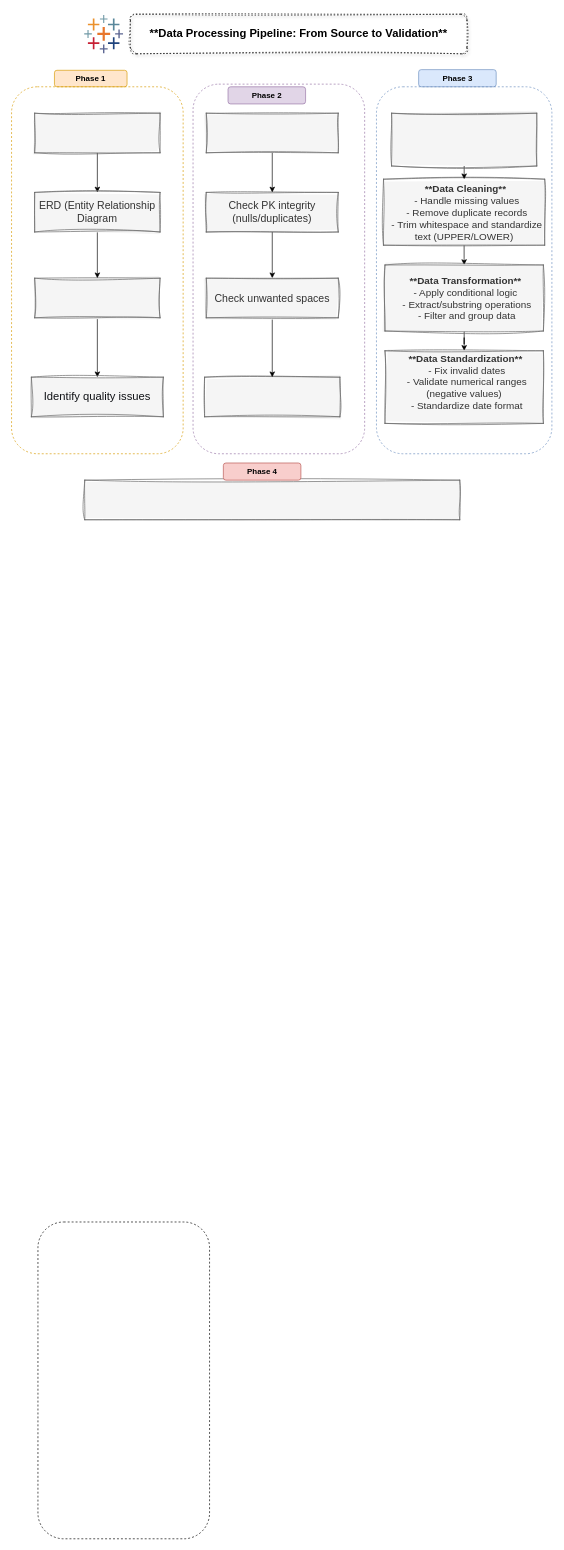
Some shapes in this 564 by 1550 pixel diagram are drawn without their labels. Each missing label, with the centre of its shape:
"Data Processing & Transformation" belongs at (464,139).
"Data Quality check" belongs at (272,133).
"Data Understanding" belongs at (97,133).
"Data Validation Check accuracy & completeness of data" belongs at (272,499).
"Expolring and Understanding the Data" belongs at (97,298).
"Follow Business rules" belongs at (272,397).
